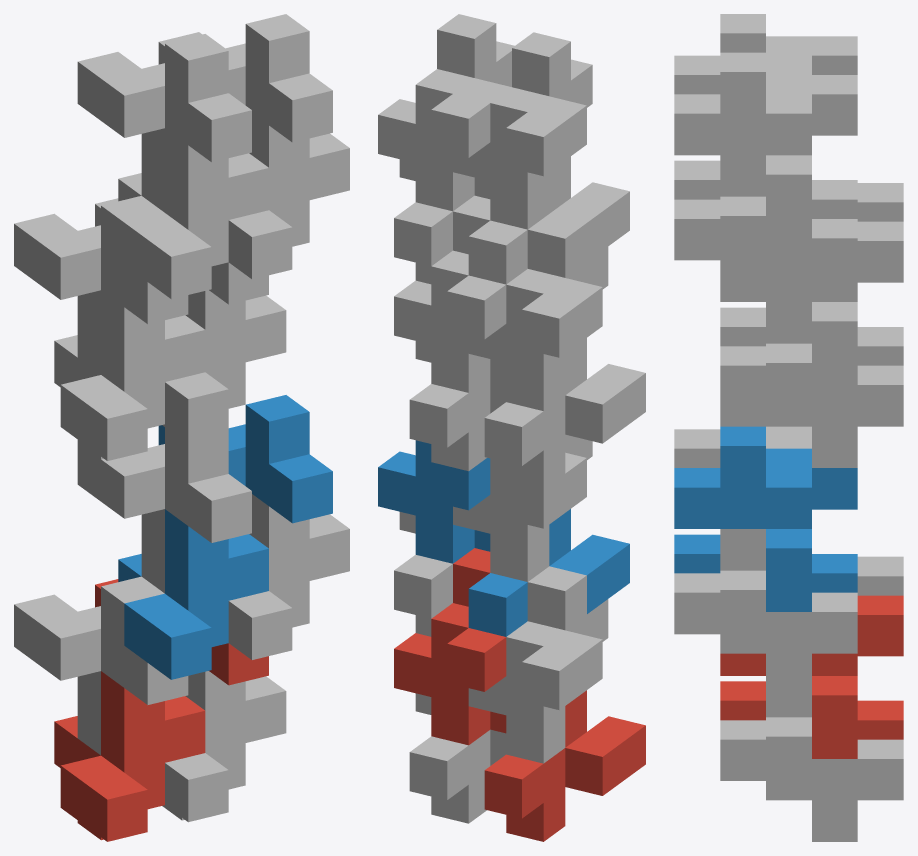
Rendered from tiling.obj.
3 views of the same model, side by side, from view 1: azimuth 30°, elevation 25°; view 2: azimuth 150°, elevation 25°; view 3: azimuth 270°, elevation 25° (orthographic). The views are drawn at different scales.
Visible parts, largest first — view 1: copy_2_domain_4, copy_1_domain_1, copy_1_domain_3, copy_1_domain_2, copy_1_domain_4, copy_2_domain_2, copy_2_domain_1, copy_2_domain_3, copy_1_domain_6, copy_1_domain_8, copy_1_domain_5, copy_1_domain_7 (+4 smaller); view 2: copy_2_domain_4, copy_2_domain_1, copy_2_domain_3, copy_2_domain_8, copy_1_domain_3, copy_1_domain_1, copy_2_domain_5, copy_2_domain_7, copy_2_domain_2, copy_2_domain_6, copy_1_domain_2, copy_1_domain_4 (+4 smaller); view 3: copy_2_domain_8, copy_2_domain_6, copy_1_domain_6, copy_1_domain_8, copy_1_domain_7, copy_1_domain_5, copy_2_domain_5, copy_2_domain_7, copy_2_domain_4, copy_2_domain_2, copy_1_domain_1, copy_1_domain_3 (+4 smaller).
Part boxes in pixels (<box>): copy_2_domain_4: <box>77,34,251,212</box>; copy_1_domain_1: <box>54,671,205,841</box>; copy_1_domain_3: <box>54,290,205,460</box>; copy_1_domain_2: <box>118,509,268,679</box>; copy_1_domain_4: <box>118,128,268,298</box>; copy_2_domain_2: <box>77,424,251,593</box>; copy_2_domain_1: <box>14,576,188,755</box>; copy_2_domain_3: <box>14,196,188,374</box>; copy_1_domain_6: <box>228,494,349,659</box>; copy_1_domain_8: <box>228,113,349,279</box>; copy_1_domain_5: <box>162,671,286,822</box>; copy_1_domain_7: <box>162,290,286,441</box>; copy_2_domain_4: <box>453,32,592,229</box>; copy_2_domain_1: <box>468,566,608,763</box>; copy_2_domain_3: <box>468,214,608,410</box>; copy_2_domain_8: <box>378,14,514,211</box>; copy_1_domain_3: <box>484,338,645,489</box>; copy_1_domain_1: <box>484,690,645,841</box>; copy_2_domain_5: <box>394,548,506,745</box>; copy_2_domain_7: <box>394,195,506,392</box>; copy_2_domain_2: <box>453,434,592,581</box>; copy_2_domain_6: <box>378,440,490,563</box>; copy_1_domain_2: <box>468,509,629,636</box>; copy_1_domain_4: <box>468,156,629,284</box>; copy_2_domain_8: <box>674,52,857,238</box>; copy_2_domain_6: <box>674,426,857,611</box>; copy_1_domain_6: <box>674,529,857,695</box>; copy_1_domain_8: <box>674,155,857,321</box>; copy_1_domain_7: <box>720,321,903,467</box>; copy_1_domain_5: <box>720,695,903,841</box>; copy_2_domain_5: <box>720,595,903,758</box>; copy_2_domain_7: <box>720,221,903,384</box>; copy_2_domain_4: <box>674,14,857,94</box>; copy_2_domain_2: <box>674,407,811,467</box>; copy_1_domain_1: <box>720,681,903,739</box>; copy_1_domain_3: <box>720,307,903,365</box>.
Size of the model in its own units: 6 by 19 by 5.
